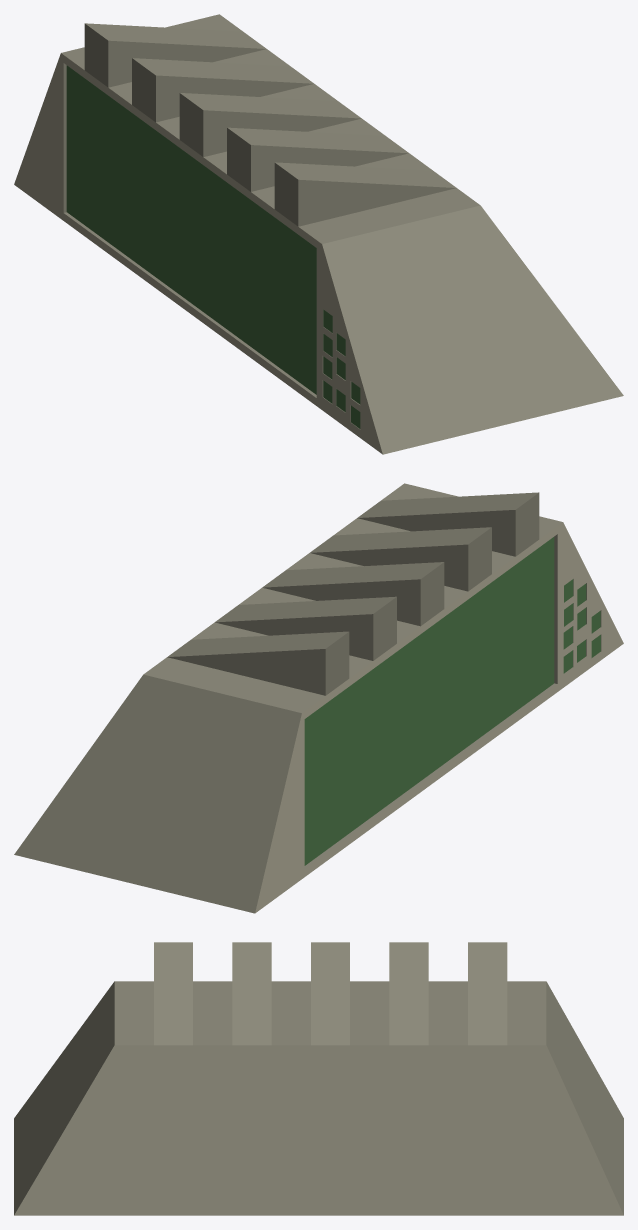
File: MainComputer.glb
The picture shows the model from 3 angles, top to bottom: view 1: azimuth 30°, elevation 25°; view 2: azimuth 150°, elevation 25°; view 3: azimuth 270°, elevation 25°; orthographic projection. The views are drawn at different scales.
Visible parts, largest first — view 1: Cube.001, MainComputerScreen-col; view 2: Cube.001, MainComputerScreen-col; view 3: Cube.001.
Boxes of the visible parts, <box> form: Cube.001: <box>14,14,623,454</box>; MainComputerScreen-col: <box>66,65,316,394</box>; Cube.001: <box>14,483,623,913</box>; MainComputerScreen-col: <box>304,537,554,865</box>; Cube.001: <box>14,942,623,1215</box>.
Size of the model in its own units: 0.5774 by 0.4876 by 1.53.
